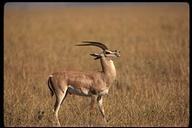antelope: (47, 40, 122, 124)
grass: (123, 8, 188, 123), (5, 8, 47, 124)
